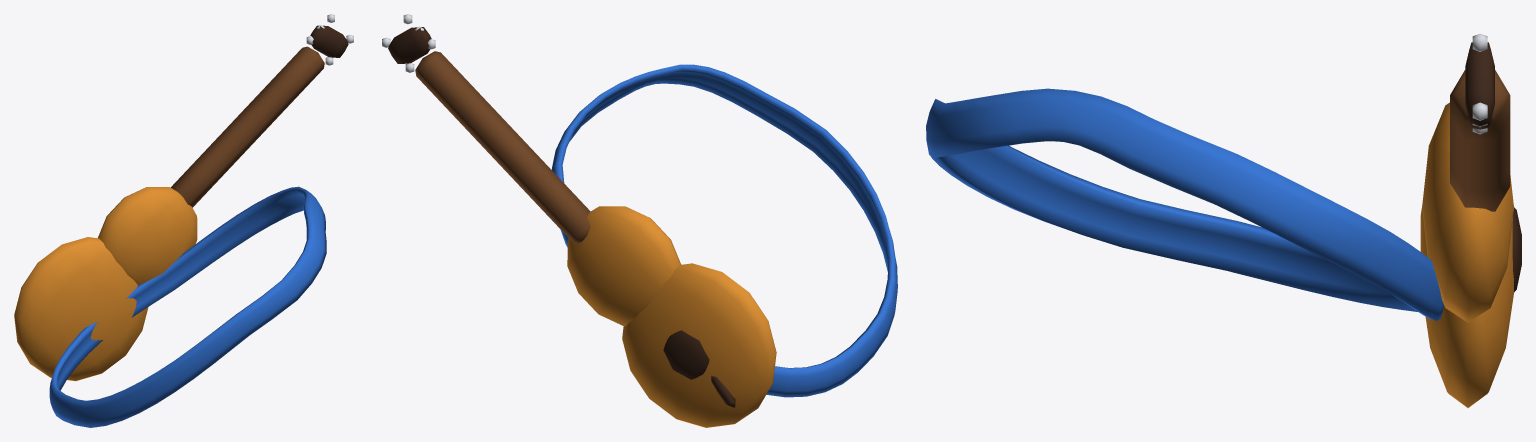
File: back_guitar.glb
3 views of the same model, side by side, from view 1: azimuth 30°, elevation 25°; view 2: azimuth 150°, elevation 25°; view 3: azimuth 270°, elevation 25° (orthographic). The views are drawn at different scales.
Visible parts, largest first — view 1: BackGuitar; view 2: BackGuitar; view 3: BackGuitar.
Boxes of the visible parts, x1=… form: BackGuitar: x1=14, y1=14, x2=353, y2=427; BackGuitar: x1=382, y1=14, x2=897, y2=427; BackGuitar: x1=926, y1=33, x2=1521, y2=407.
Bounding box in the file's own units: 0.8168 × 0.6599 × 0.59.
